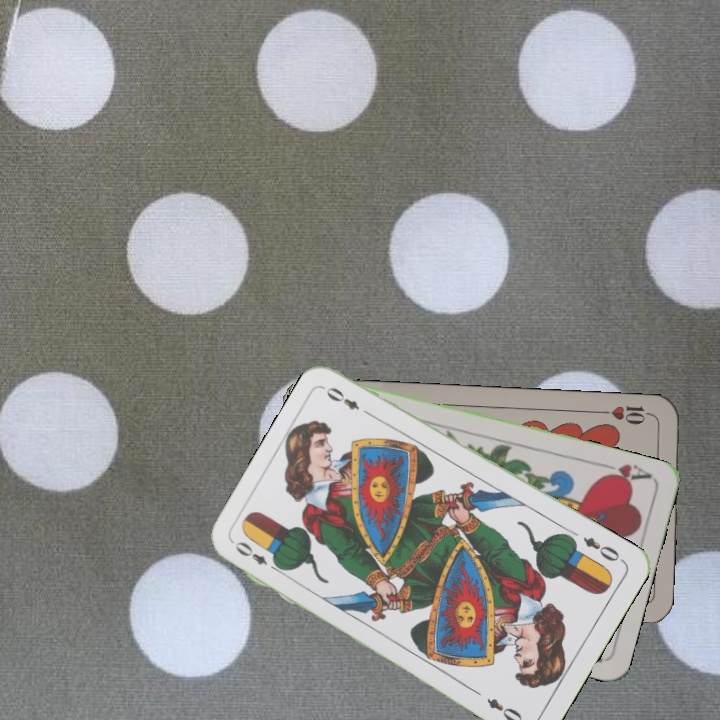EO: (230, 537, 284, 575), (579, 533, 627, 565)
H10: (597, 401, 656, 427)
HA: (596, 458, 655, 487)
